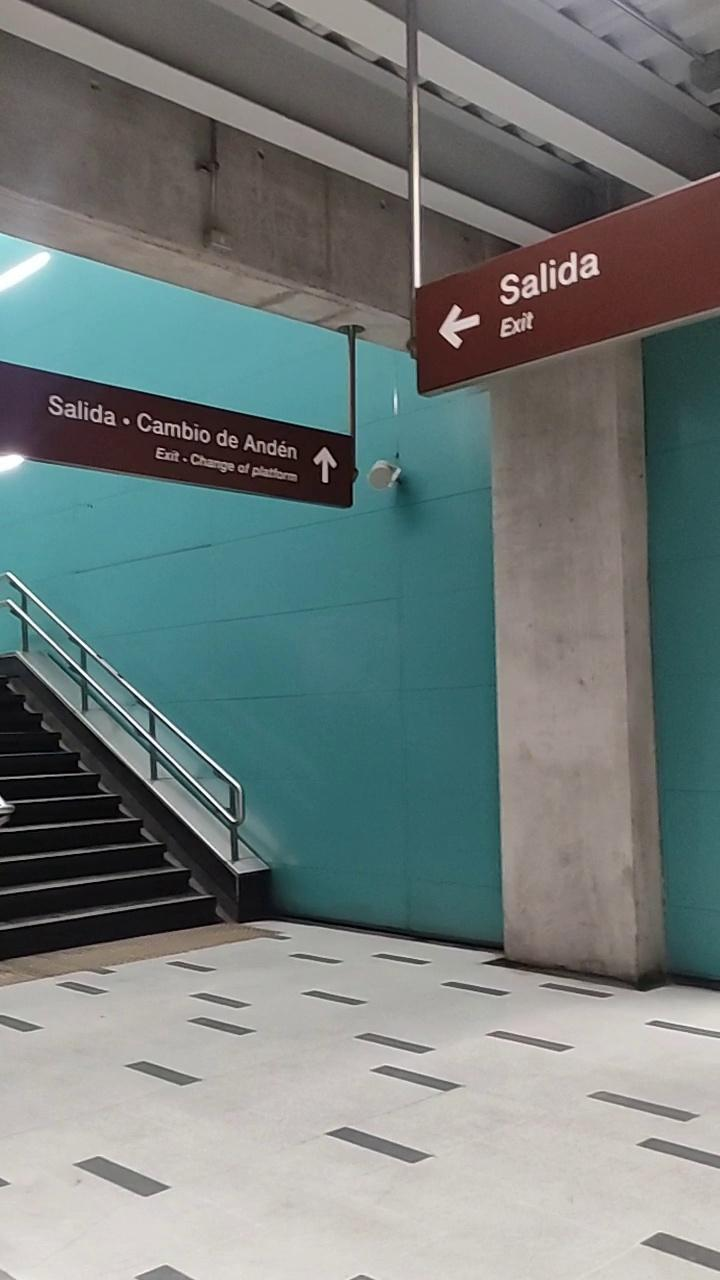left arrow: (434, 300, 489, 357)
up arrow: (309, 438, 344, 495)
